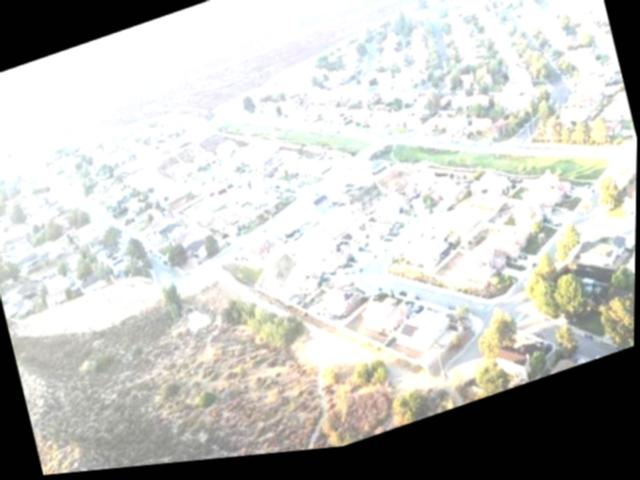iha: (245, 192, 359, 262)
